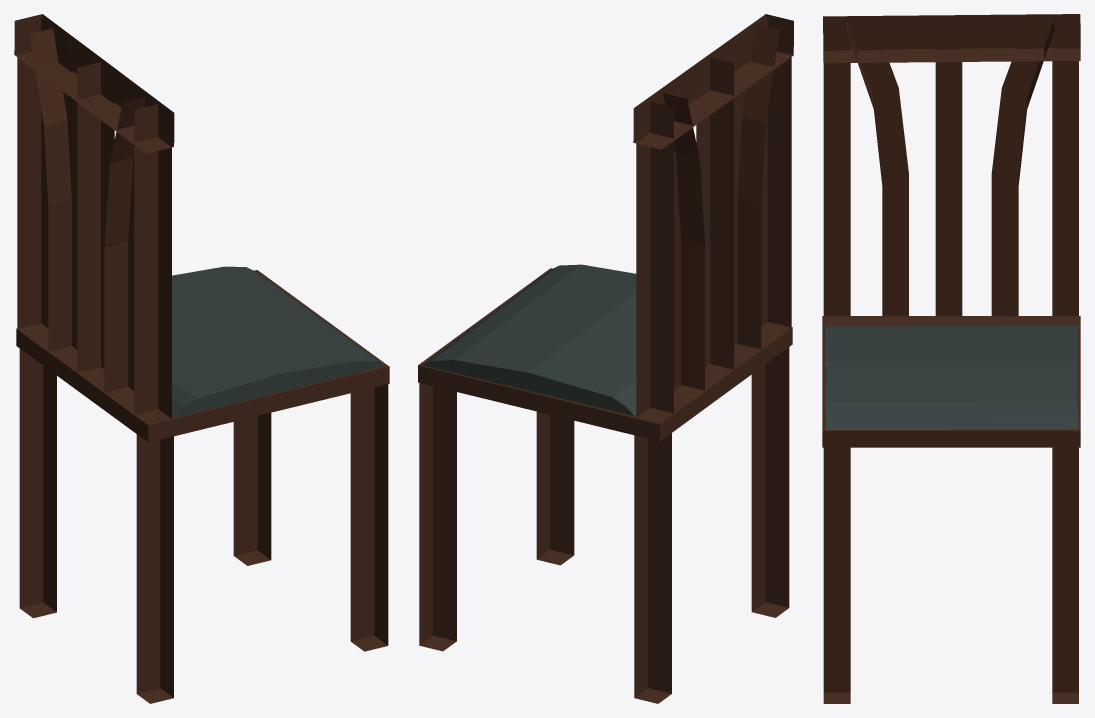
File: dining_chair.glb
3 renders of one model, left to right at view 1: azimuth 30°, elevation 25°; view 2: azimuth 150°, elevation 25°; view 3: azimuth 270°, elevation 25°, orthographic. The views are drawn at different scales.
Visible parts, largest first — view 1: Cube.001; view 2: Cube.001; view 3: Cube.001.
Boxes of the visible parts, <box> form: Cube.001: <box>14,14,389,703</box>; Cube.001: <box>418,14,793,703</box>; Cube.001: <box>822,14,1080,703</box>.
Bounding box in the file's own units: 1.21 × 2.79 × 1.14.
